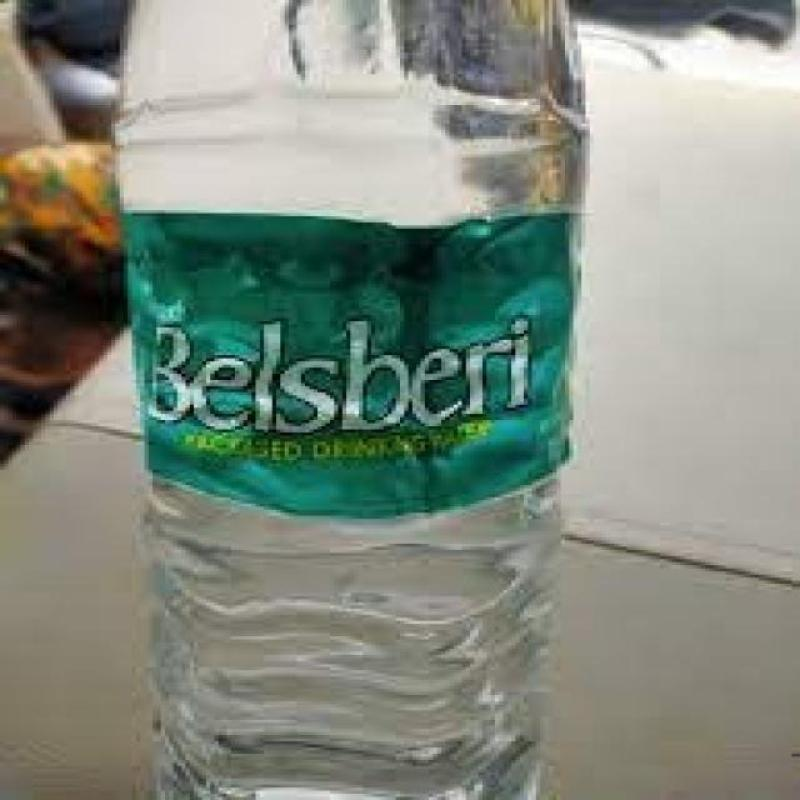botella: (115, 0, 594, 800)
